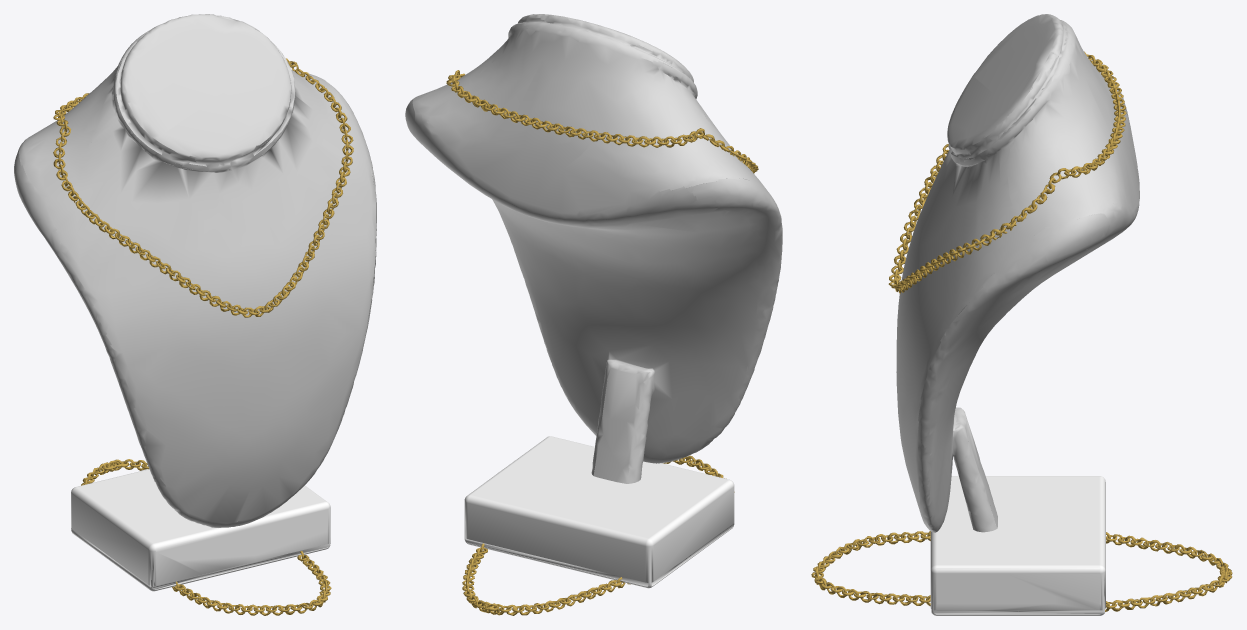
The model's file is REGINA_busto.lite.draco.glb.
3 views of the same model, side by side, from view 1: azimuth 30°, elevation 25°; view 2: azimuth 150°, elevation 25°; view 3: azimuth 270°, elevation 25° (orthographic). The views are drawn at different scales.
Visible parts, largest first — view 1: busto, plinto, pezzo00, posa00; view 2: busto, plinto, pezzo00, posa00; view 3: busto, plinto, pezzo00, posa00.
Boxes of the visible parts, x1,y1,x2,y2 form: busto: (14, 14, 376, 527); plinto: (71, 469, 330, 591); pezzo00: (53, 58, 353, 317); posa00: (81, 459, 331, 615); busto: (405, 14, 782, 483); plinto: (464, 436, 734, 588); pezzo00: (446, 70, 758, 173); posa00: (462, 455, 734, 615); busto: (896, 14, 1139, 532); plinto: (930, 476, 1105, 615); pezzo00: (888, 51, 1126, 293); posa00: (811, 531, 1232, 611).
Size of the model in its own units: 0.1901 by 0.2823 by 0.1971.
